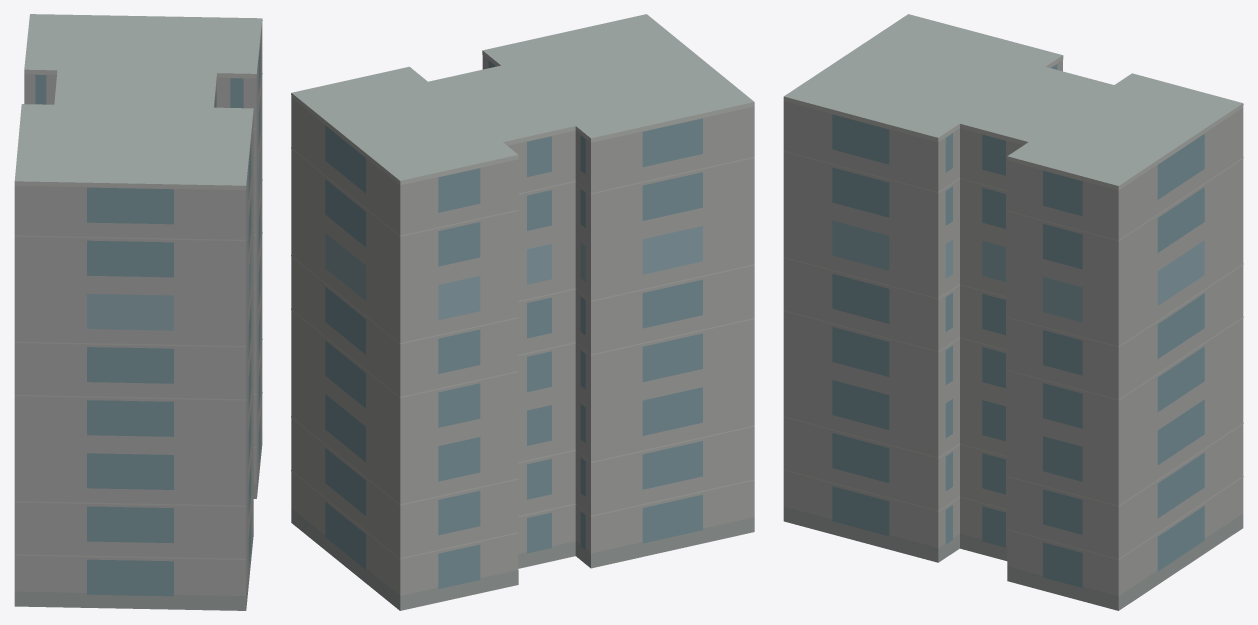
Rendered from survey-upis-33009289.glb.
3 views of the same model, side by side, from view 1: azimuth 30°, elevation 25°; view 2: azimuth 150°, elevation 25°; view 3: azimuth 270°, elevation 25° (orthographic).
Visible parts, largest first — view 1: survey-upis-33009289.tmp; view 2: survey-upis-33009289.tmp; view 3: survey-upis-33009289.tmp.
Boxes of the visible parts, x1,y1,x2,y2 form: survey-upis-33009289.tmp: (14,14,262,610); survey-upis-33009289.tmp: (291,14,754,610); survey-upis-33009289.tmp: (783,14,1243,610).
Size of the model in its own units: 19.95 by 22.95 by 22.53.
